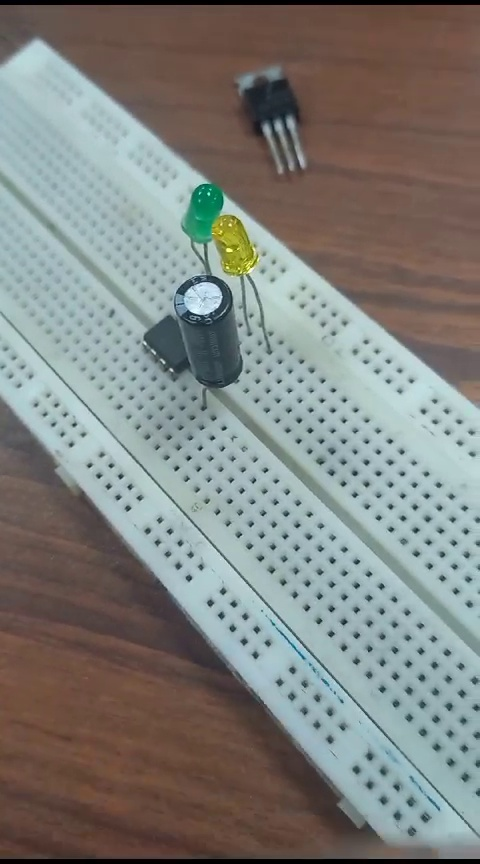IC: (123, 317, 188, 368)
LED: (211, 220, 276, 320), (178, 176, 219, 259)
capacitor: (168, 276, 250, 399)
voltage regulator: (215, 53, 323, 173)
